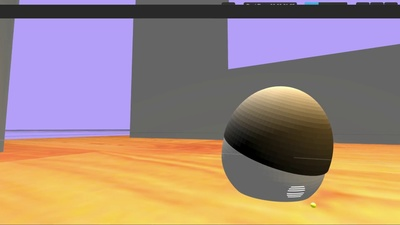mira_robot: (222, 85, 333, 202)
